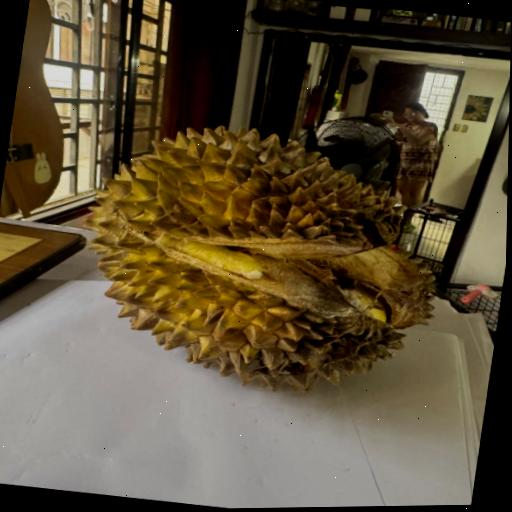rot: (9, 59, 484, 423)
